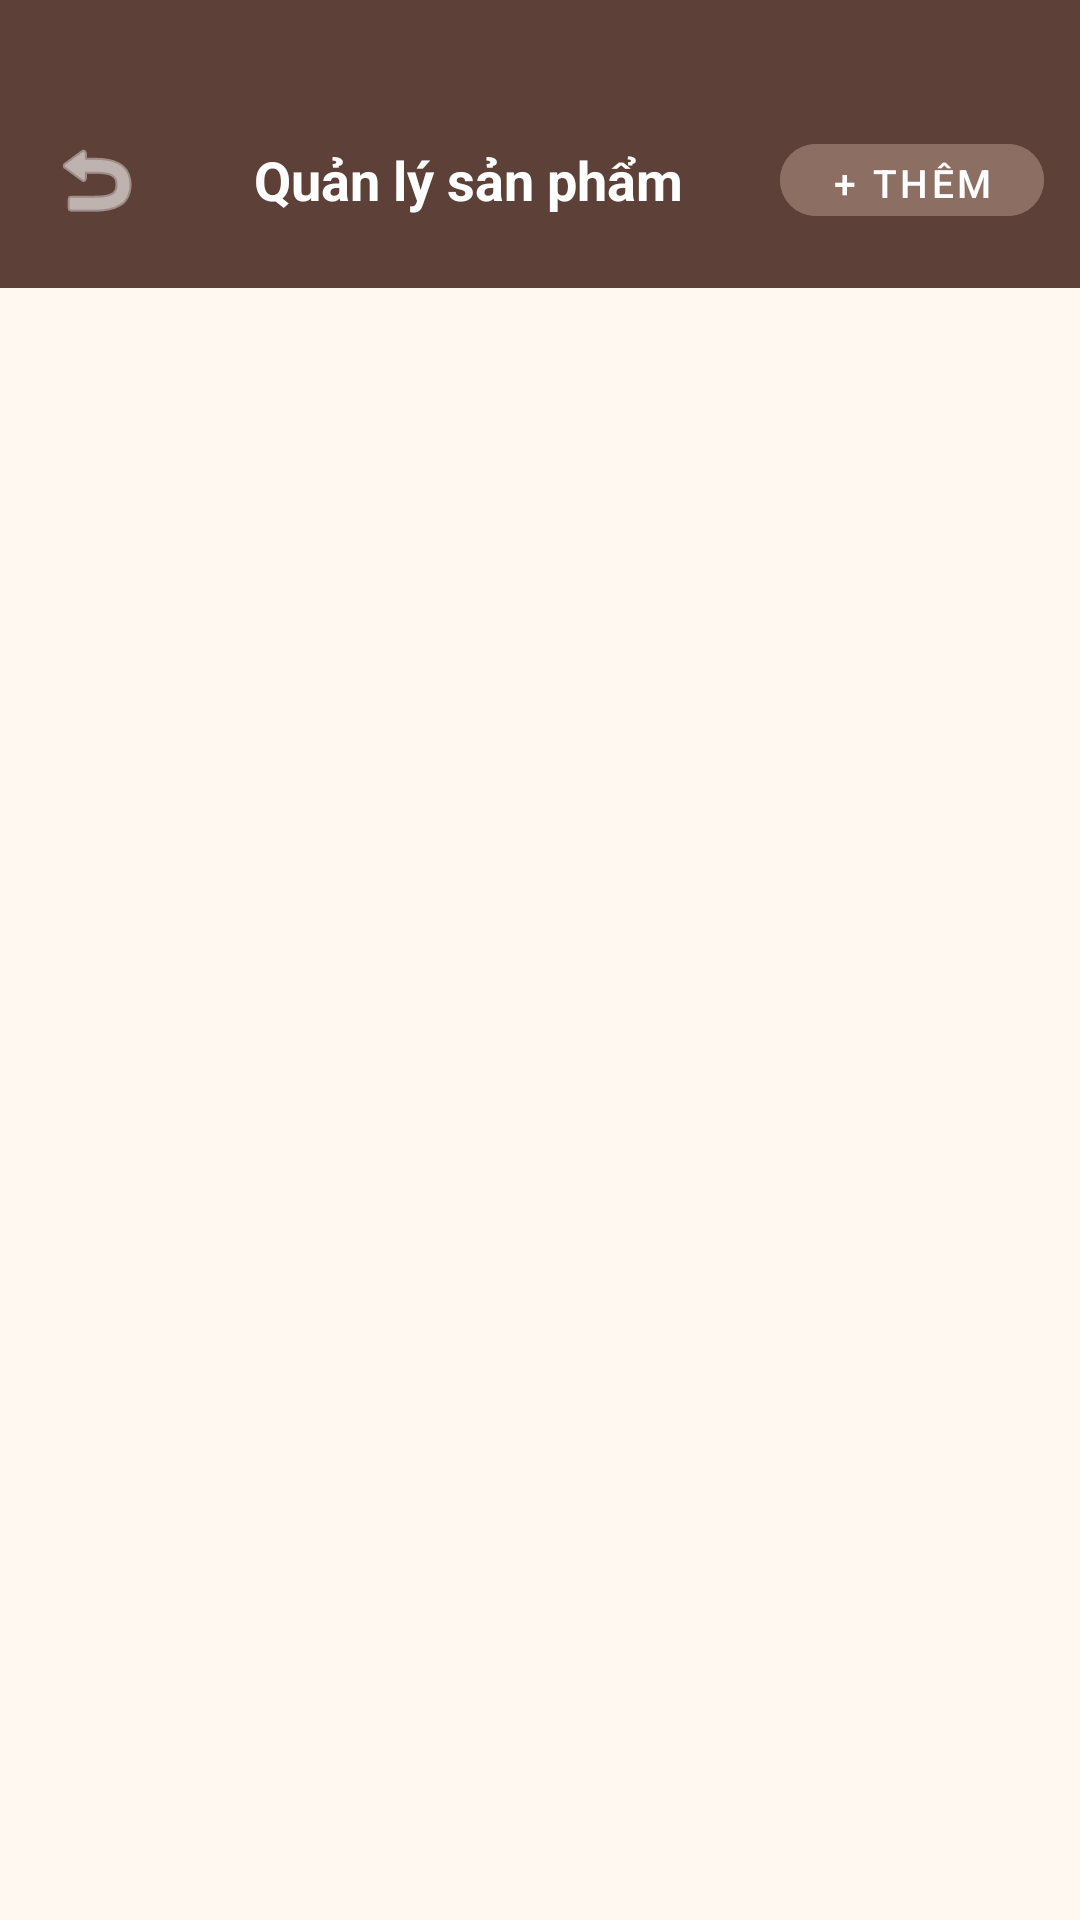

Screen size 1080 x 1920. Icon name, then its center in pixels as point (x, y):
Quay lại: point (97, 180)
